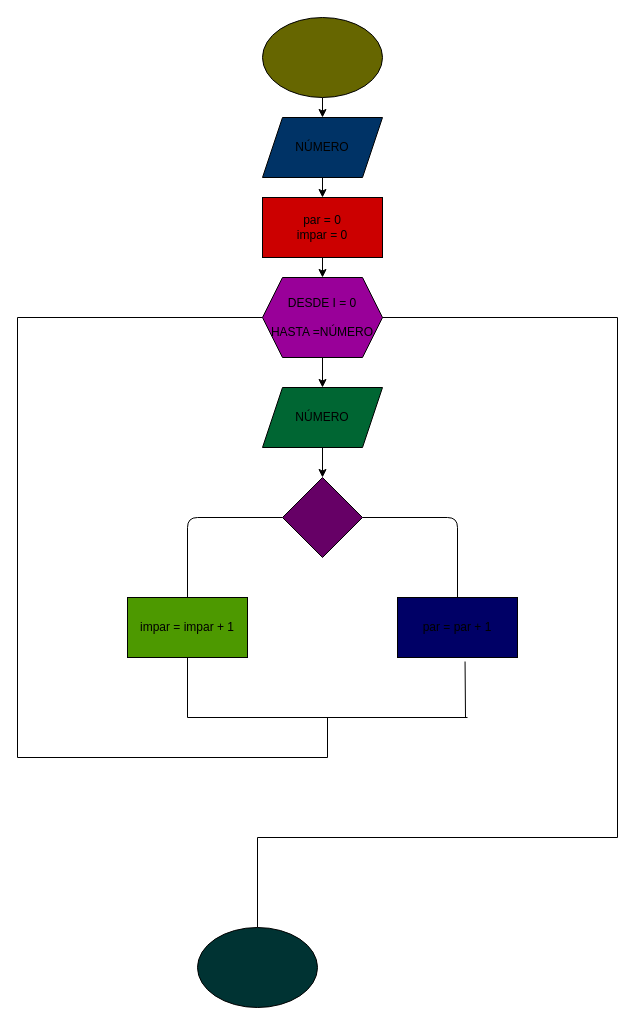
Some shapes in this 636 by 1025 pixel diagram are drawn without their labels. The shapes that lost their labels are listed below. From the top down, each one's centre as x and y in pixels, then its label:
the point at 322,57: INICIO
the point at 322,517: N % 2 == 0
the point at 257,967: FIN
